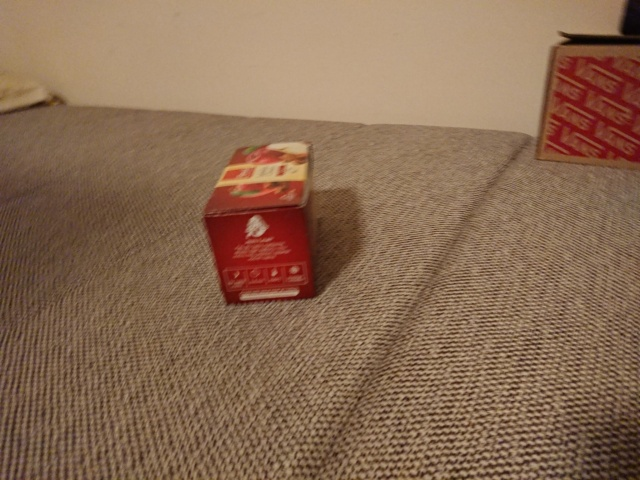Franck Apple Cinnamon Tea 60g: (198, 136, 320, 310)
